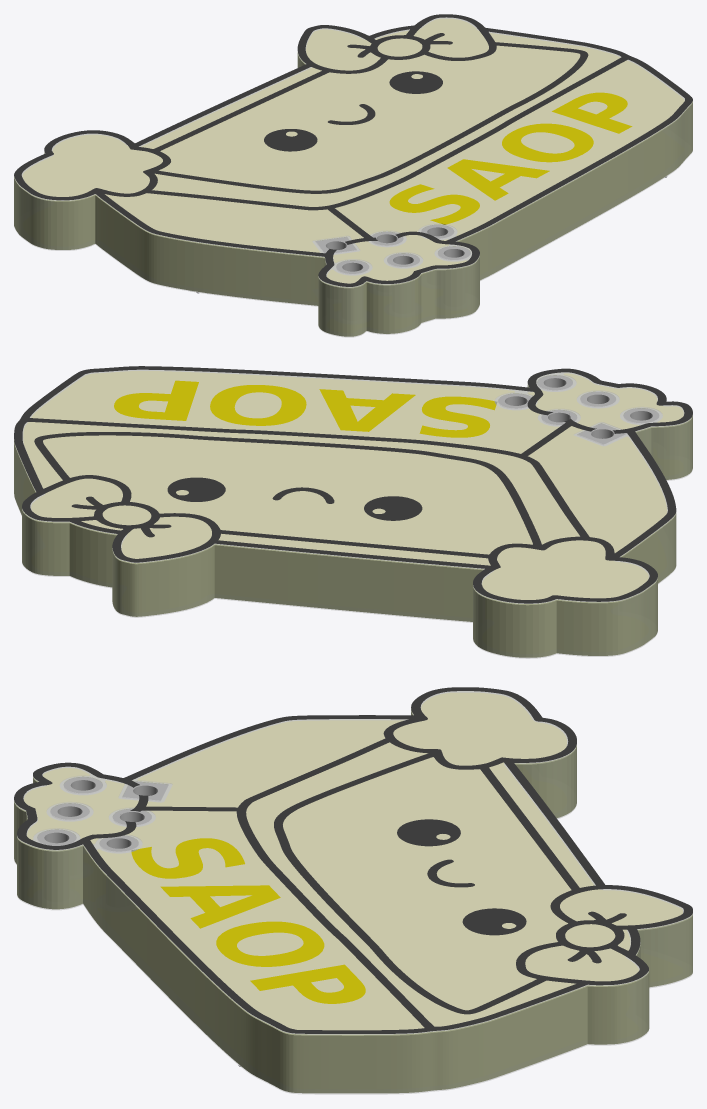
The model's file is saop.glb.
The picture shows the model from 3 angles, top to bottom: view 1: azimuth 30°, elevation 25°; view 2: azimuth 150°, elevation 25°; view 3: azimuth 270°, elevation 25°; orthographic projection. The views are drawn at different scales.
Visible parts, largest first — view 1: =>[0:1:1:2], =>[0:1:1:6], =>[0:1:1:8], =>[0:1:1:4]; view 2: =>[0:1:1:2], =>[0:1:1:6], =>[0:1:1:8], =>[0:1:1:4]; view 3: =>[0:1:1:2], =>[0:1:1:6], =>[0:1:1:8], =>[0:1:1:4].
Part boxes in pixels (<box>): =>[0:1:1:2]: <box>23,19,683,282</box>; =>[0:1:1:6]: <box>14,17,692,337</box>; =>[0:1:1:8]: <box>14,18,692,336</box>; =>[0:1:1:4]: <box>14,14,692,293</box>; =>[0:1:1:2]: <box>23,371,683,599</box>; =>[0:1:1:6]: <box>14,369,692,658</box>; =>[0:1:1:8]: <box>14,370,692,657</box>; =>[0:1:1:4]: <box>14,366,692,603</box>; =>[0:1:1:2]: <box>24,693,682,1029</box>; =>[0:1:1:6]: <box>14,691,692,1094</box>; =>[0:1:1:8]: <box>14,691,692,1093</box>; =>[0:1:1:4]: <box>14,687,692,1066</box>.
Size of the model in its own units: 0.0328 by 0.00269 by 0.0271.
4 materials, 4 textured.
